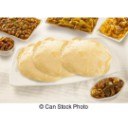poori: (62, 35, 113, 77), (20, 43, 64, 83), (34, 38, 75, 78)
